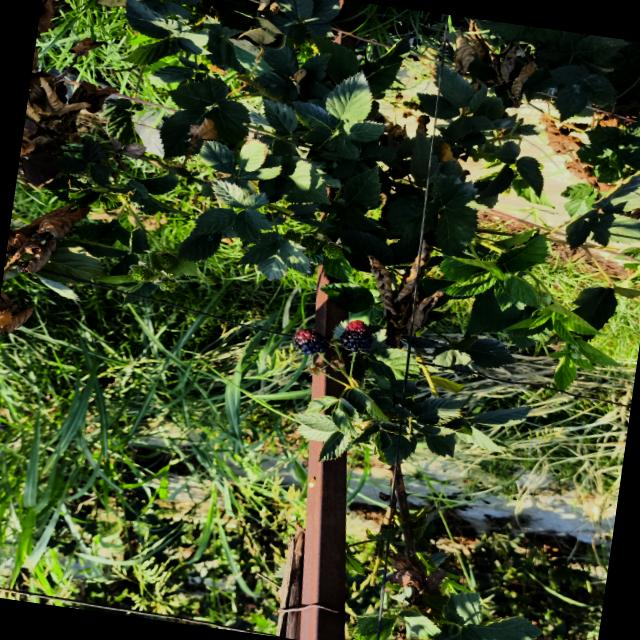marron: (340, 320, 373, 352), (294, 329, 329, 355)
